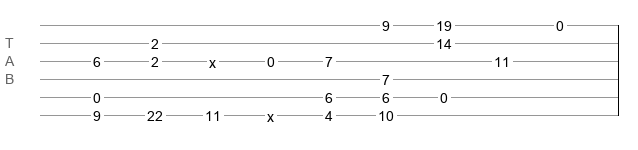0: (93, 90, 101, 100), (267, 54, 275, 64), (440, 90, 448, 100), (556, 18, 564, 28)
10: (378, 108, 394, 118)
11: (205, 108, 221, 118), (494, 54, 510, 64)
14: (436, 36, 452, 46)
19: (436, 18, 452, 28)
2: (151, 36, 159, 46), (151, 54, 159, 64)
22: (147, 108, 163, 118)
4: (325, 108, 333, 118)
6: (93, 54, 101, 64), (325, 90, 333, 100), (382, 90, 390, 100)
7: (325, 54, 333, 64), (382, 72, 390, 82)
9: (93, 108, 101, 118), (382, 18, 390, 28)
x: (209, 55, 216, 63), (267, 109, 274, 117)
